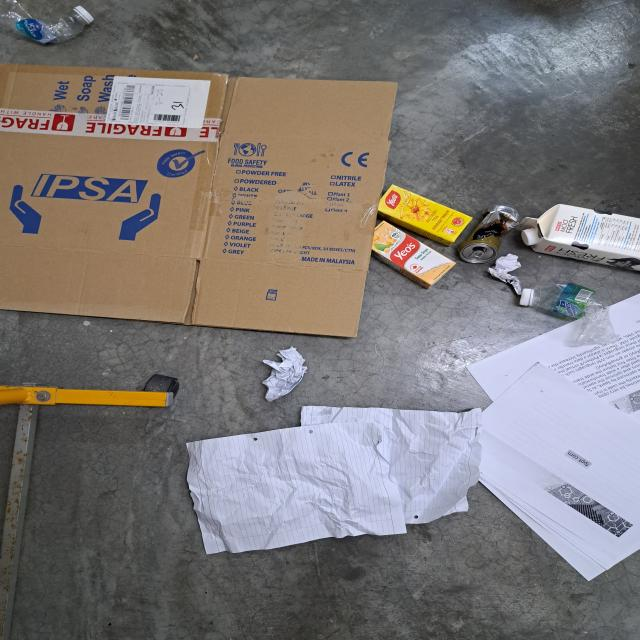can: (462, 205, 522, 262)
cardboard: (0, 57, 397, 343)
drink carton: (523, 202, 640, 272), (368, 220, 455, 290), (378, 184, 472, 246)
paper: (467, 291, 640, 580), (184, 406, 482, 552), (254, 342, 308, 402), (489, 254, 525, 294)
plastic bottle: (0, 0, 103, 50)
plastic bottle cap: (73, 4, 99, 30), (522, 226, 542, 246), (519, 288, 534, 306)
pop tab: (470, 249, 484, 260)
